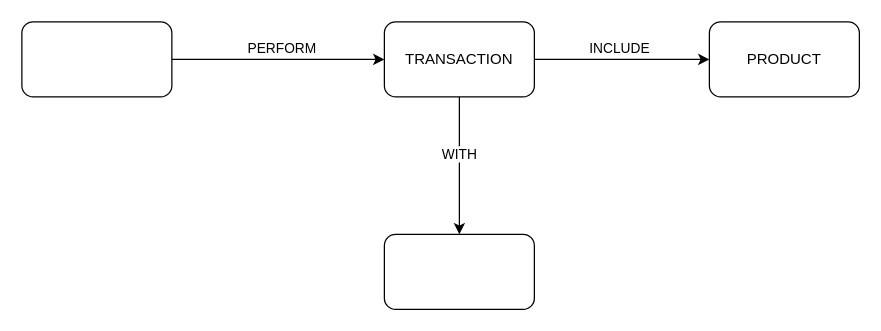
Image size: 881x331. Some labels were removed from this diagram. Each missing label, with the centre of its shape:
CUSTOMER: [96,59]
PAYMENT METHOD: [458,271]
